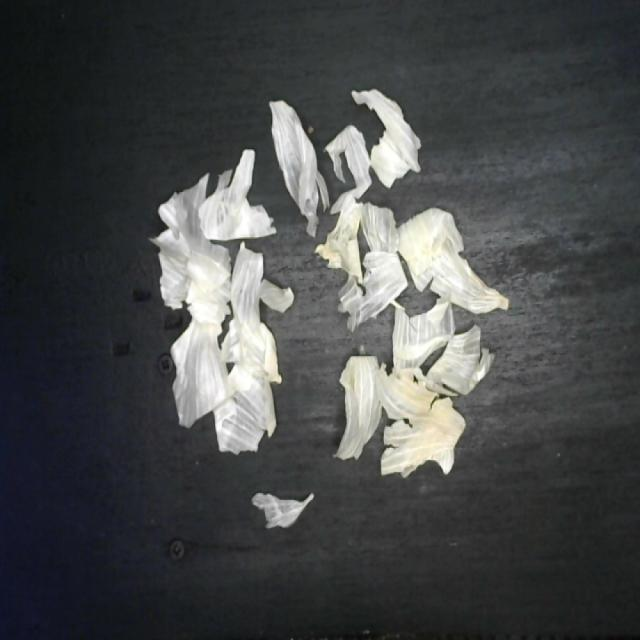biodegradable: (146, 83, 514, 534)
